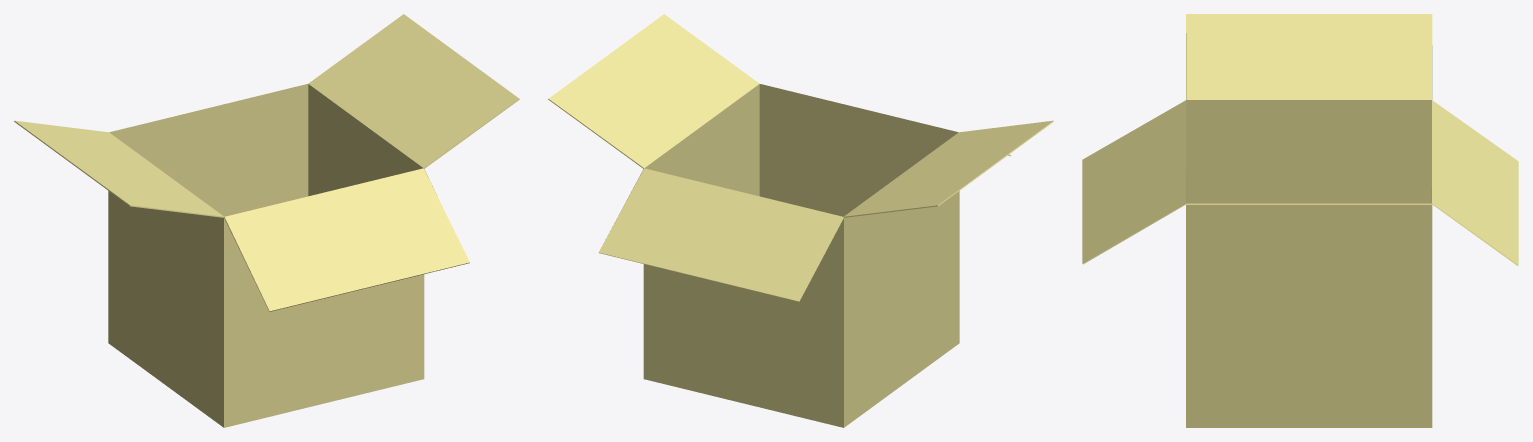
Rendered from SM_CardboardBox_002.fbx.
The picture shows the model from 3 angles, left to right: view 1: azimuth 30°, elevation 25°; view 2: azimuth 150°, elevation 25°; view 3: azimuth 270°, elevation 25°; orthographic projection. The views are drawn at different scales.
Visible parts, largest first — view 1: Cardboard_Box_002; view 2: Cardboard_Box_002; view 3: Cardboard_Box_002.
Boxes of the visible parts, bbox=[...] form: Cardboard_Box_002: bbox=[14, 14, 519, 427]; Cardboard_Box_002: bbox=[548, 14, 1053, 427]; Cardboard_Box_002: bbox=[1082, 14, 1518, 427].
Size of the model in its own units: 100 by 63 by 91.
